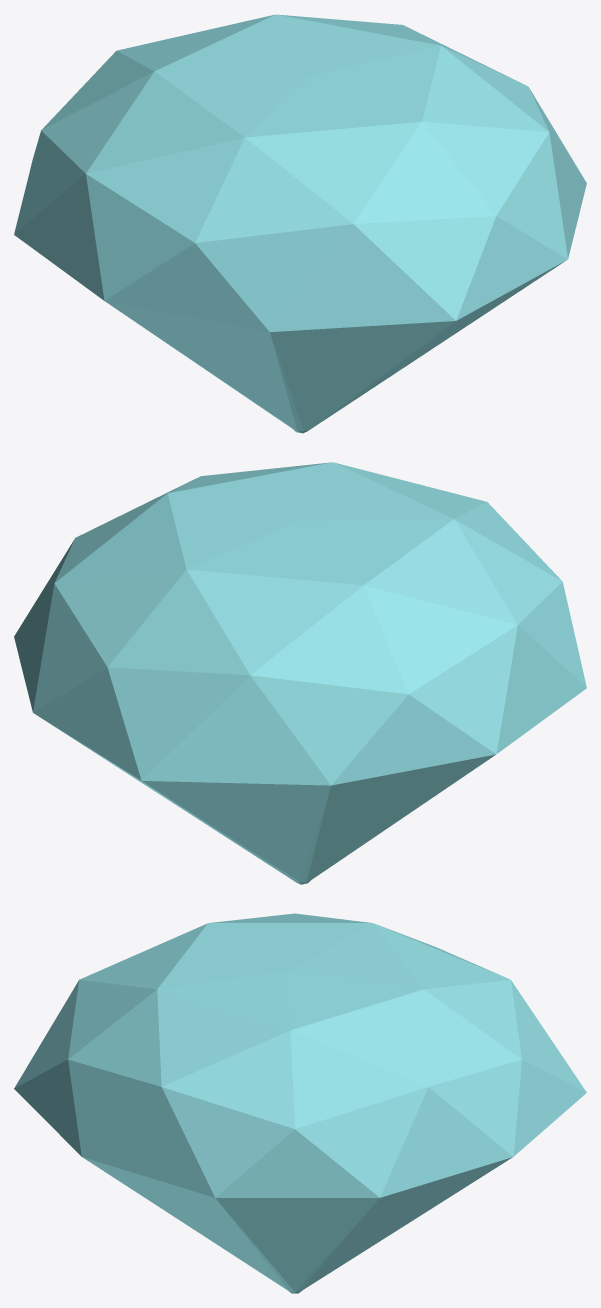
The model's file is mendiane.fbx.
3 views of the same model, one above another, from view 1: azimuth 30°, elevation 25°; view 2: azimuth 150°, elevation 25°; view 3: azimuth 270°, elevation 25° (orthographic). The views are drawn at different scales.
Parts seen in each view (by area): view 1: Icosphere; view 2: Icosphere; view 3: Icosphere.
Boxes of the visible parts, bbox=[...] form: Icosphere: bbox=[14, 14, 586, 433]; Icosphere: bbox=[14, 462, 586, 884]; Icosphere: bbox=[14, 913, 586, 1293].
Size of the model in its own units: 34.2 by 24.23 by 38.61.
